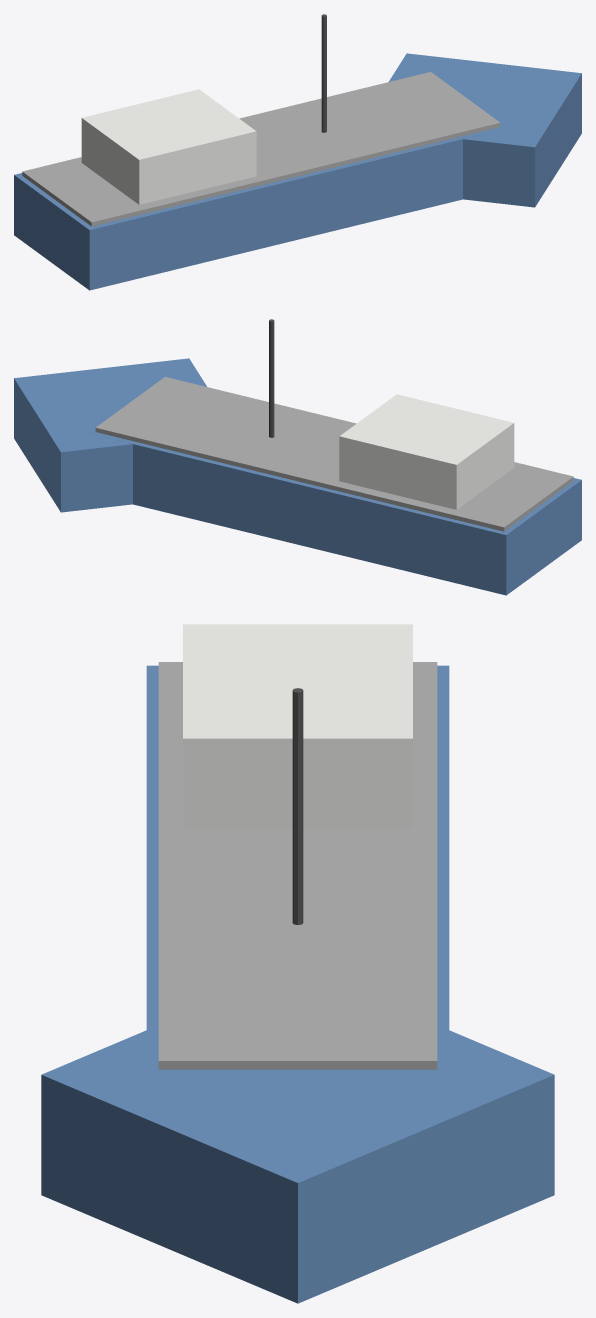
The model's file is scallop_dragger.glb.
3 renders of one model, top to bottom at view 1: azimuth 30°, elevation 25°; view 2: azimuth 150°, elevation 25°; view 3: azimuth 270°, elevation 25°, orthographic. The views are drawn at different scales.
Parts seen in each view (by area): view 1: hull, deck, bow, cabin, mast; view 2: hull, deck, bow, cabin, mast; view 3: bow, deck, cabin, hull, mast.
Part boxes in pixels (bbox=[...]): hull: bbox=[14, 72, 508, 290]; deck: bbox=[22, 72, 500, 226]; bow: bbox=[389, 53, 581, 207]; cabin: bbox=[81, 89, 256, 204]; mast: bbox=[321, 14, 326, 132]; hull: bbox=[87, 377, 581, 595]; deck: bbox=[95, 377, 573, 531]; bow: bbox=[14, 358, 206, 512]; cabin: bbox=[339, 394, 514, 509]; mast: bbox=[269, 319, 274, 437]; bow: bbox=[41, 1030, 554, 1303]; deck: bbox=[158, 662, 437, 1069]; cabin: bbox=[183, 624, 412, 828]; hull: bbox=[146, 665, 449, 1074]; mast: bbox=[292, 688, 303, 924].
Size of the model in its own units: 20.24 by 6.6 by 8.49.
